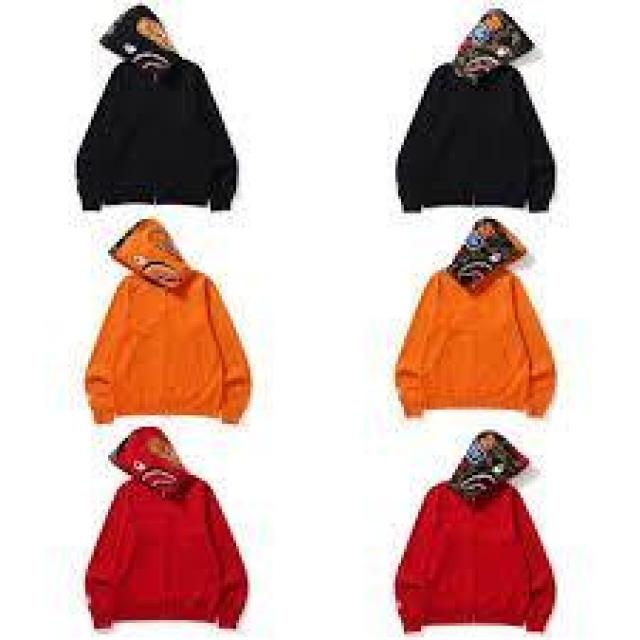sweater: (381, 214, 583, 436), (60, 421, 267, 637), (80, 212, 270, 442), (378, 424, 578, 640), (70, 0, 254, 225), (383, 6, 573, 222)
